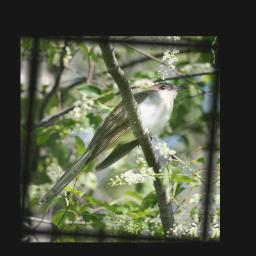Cuckoo: (35, 74, 190, 219)
